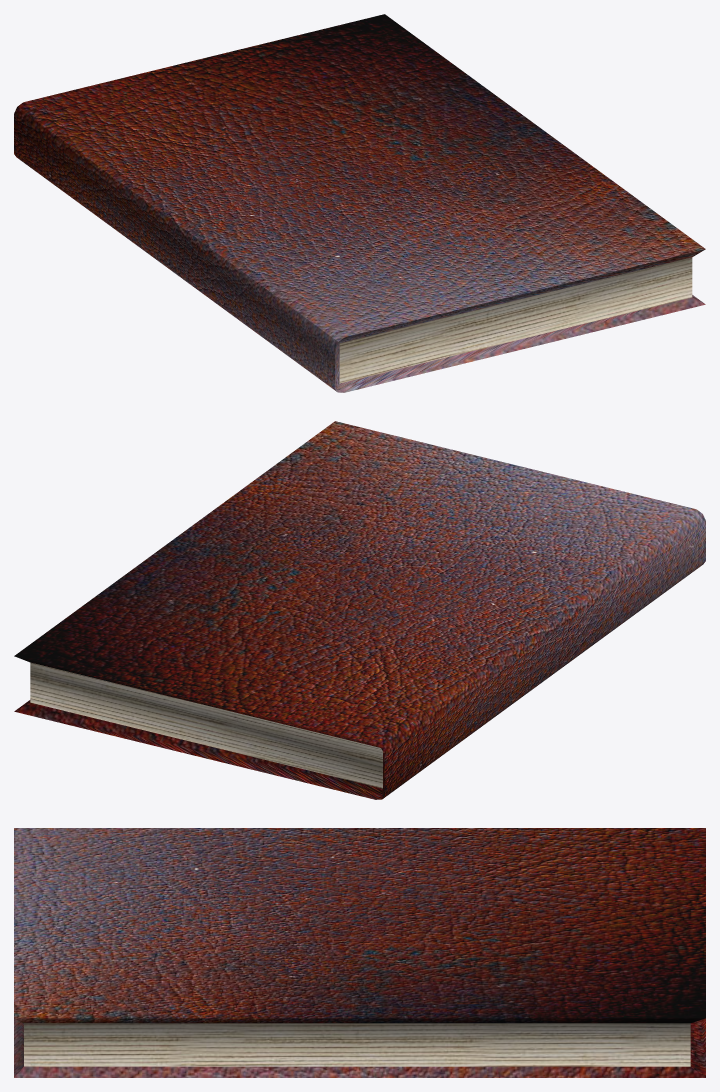
The model's file is libro.FBX.
3 views of the same model, one above another, from view 1: azimuth 30°, elevation 25°; view 2: azimuth 150°, elevation 25°; view 3: azimuth 270°, elevation 25° (orthographic). The views are drawn at different scales.
Visible parts, largest first — view 1: Box001; view 2: Box001; view 3: Box001.
Boxes of the visible parts, left/top/right/bottom form: Box001: left=14, top=14, right=705, bottom=392; Box001: left=14, top=421, right=705, bottom=799; Box001: left=14, top=828, right=705, bottom=1077.
Bounding box in the file's own units: 14 × 2 × 21.
